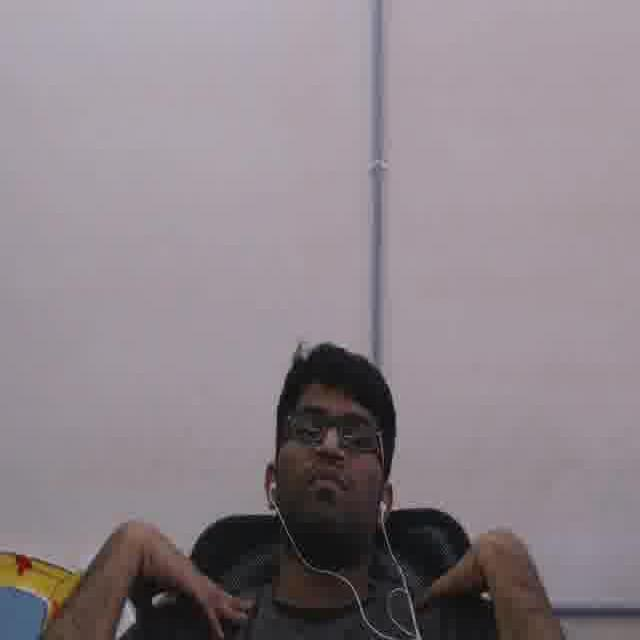Boredom: (281, 380, 378, 531)
